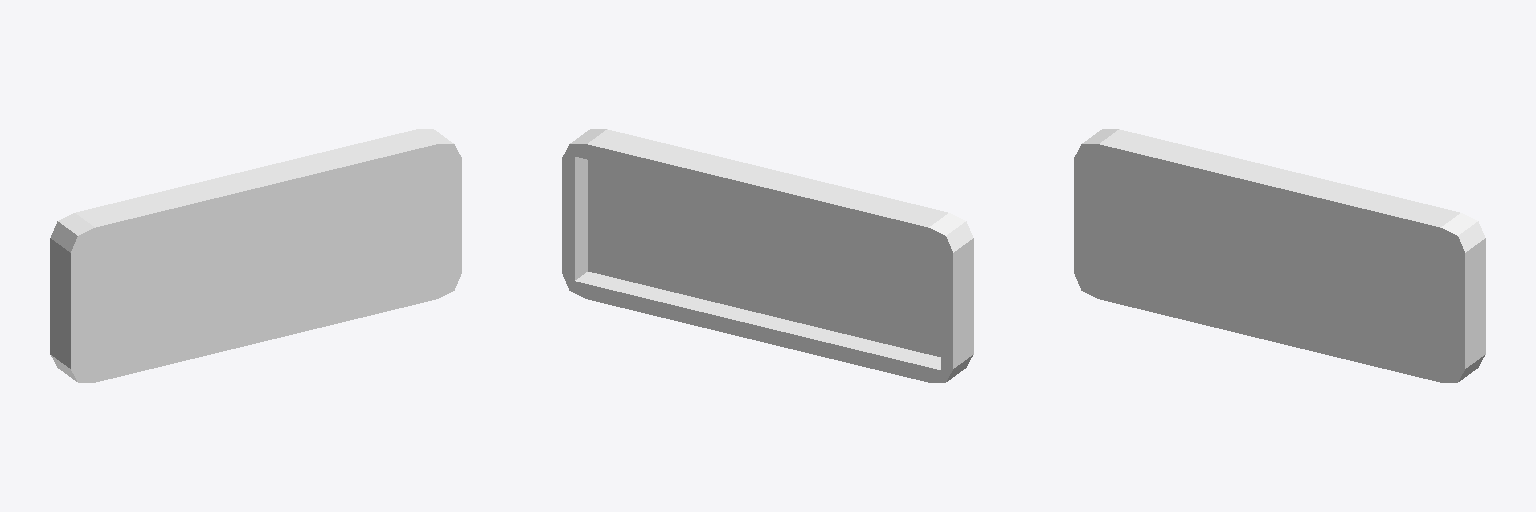
Rendered from crystalscorner.obj.
3 renders of one model, left to right at view 1: azimuth 30°, elevation 25°; view 2: azimuth 150°, elevation 25°; view 3: azimuth 330°, elevation 25°, orthographic.
Visible parts, largest first — view 1: pCube43; view 2: pCube43; view 3: pCube43.
Boxes of the visible parts, <box> form: pCube43: <box>50,129,461,382</box>; pCube43: <box>562,129,973,382</box>; pCube43: <box>1074,129,1485,382</box>.
Size of the model in its own units: 1 by 0.3792 by 0.0902.